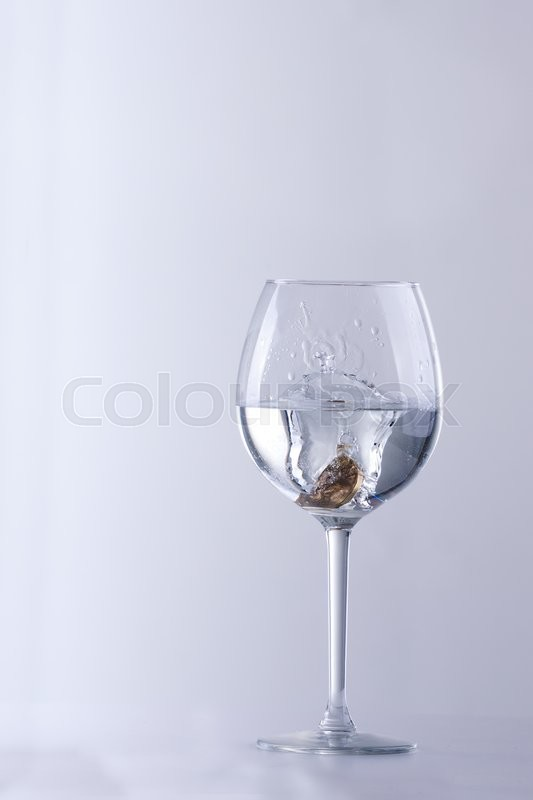glass of water: (235, 278, 437, 757)
